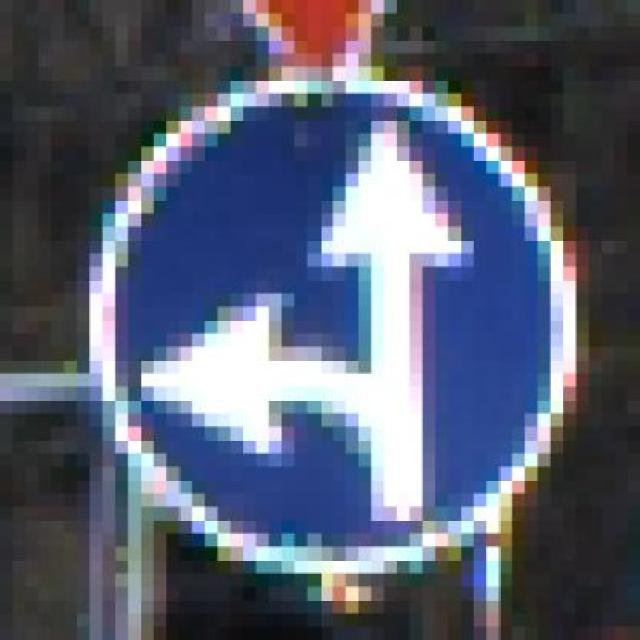Go straight or turn left: (77, 66, 601, 574)
